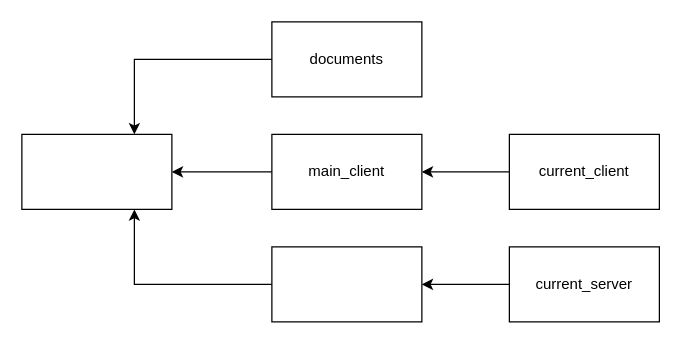
Some shapes in this 681 by 344 pixel diagram are drawn without their labels. Each missing label, with the centre of its shape:
main: point 96,171
main_server: point 346,284
